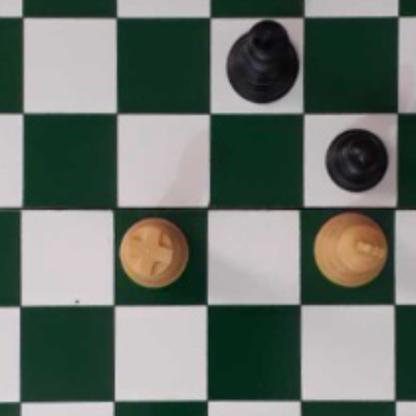black-king: (222, 20, 299, 103)
black-pawn: (325, 123, 388, 192)
white-king: (311, 210, 390, 291)
white-rook: (119, 216, 188, 287)
